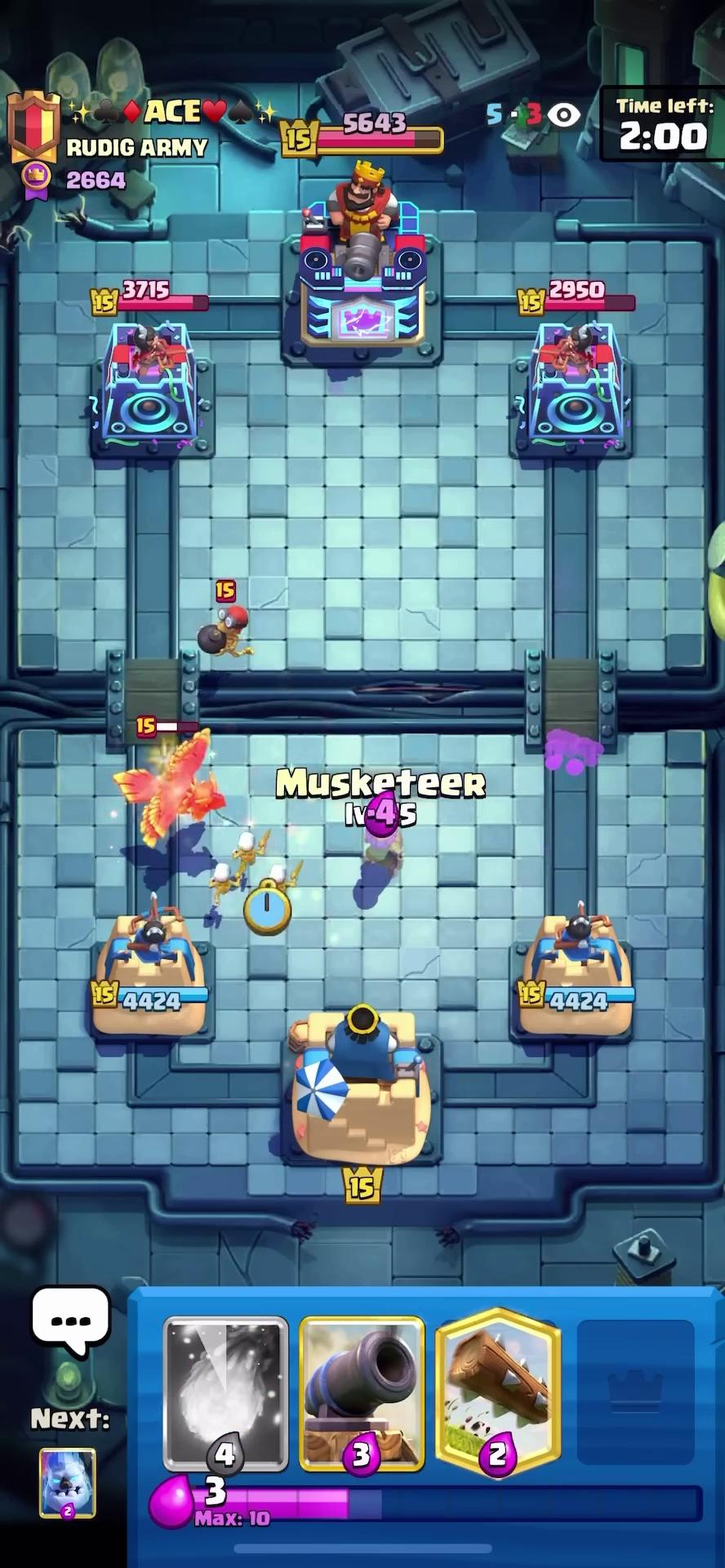skeletons: (200, 819, 298, 921)
